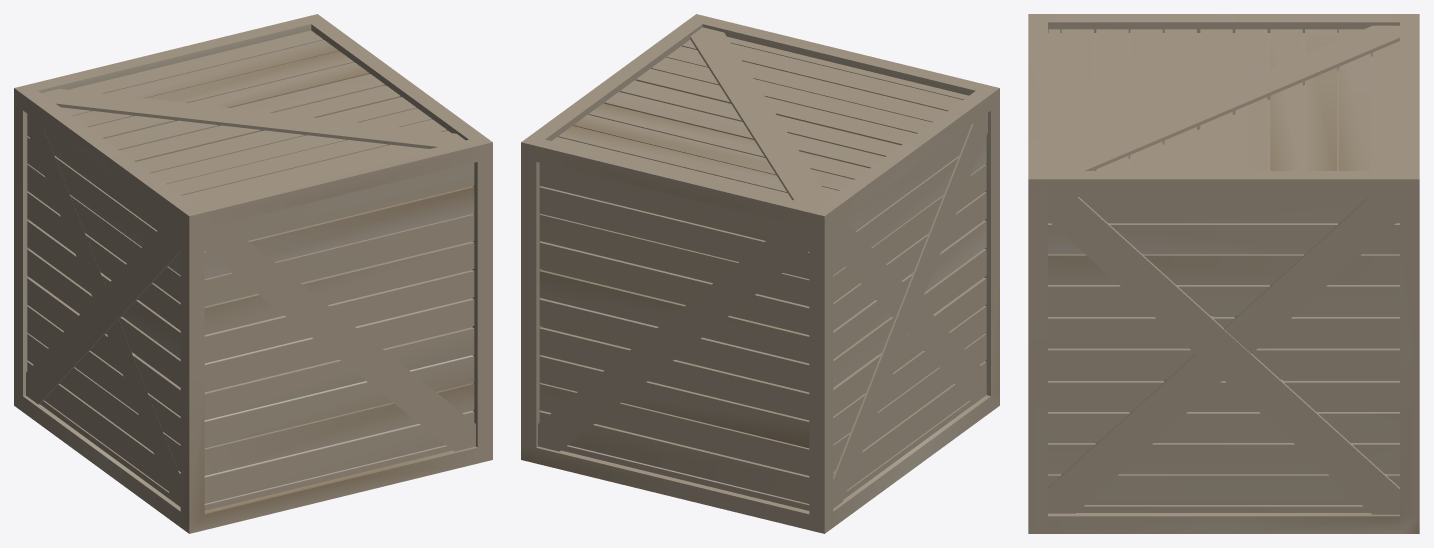
File: woodenBox.glb
3 views of the same model, side by side, from view 1: azimuth 30°, elevation 25°; view 2: azimuth 150°, elevation 25°; view 3: azimuth 270°, elevation 25° (orthographic). The views are drawn at different scales.
Parts seen in each view (by area): view 1: Cube.004; view 2: Cube.004; view 3: Cube.004.
Boxes of the visible parts, box(x1,y1,x2,y2) form: Cube.004: box(14, 14, 492, 533); Cube.004: box(521, 14, 999, 533); Cube.004: box(1028, 14, 1419, 533).
Size of the model in its own units: 1 by 1 by 1.
